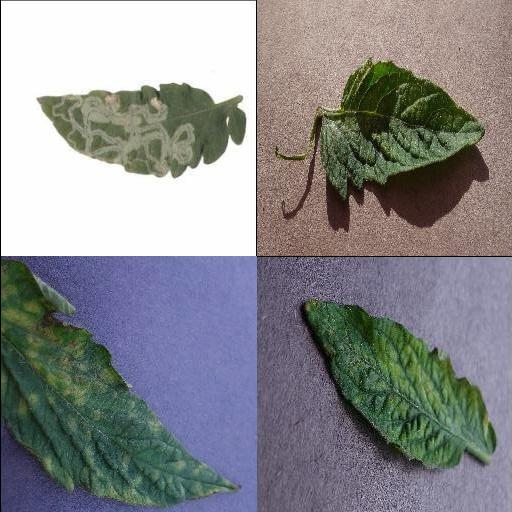Leaf Miner: (37, 82, 246, 180)
Leaf Mold: (0, 258, 244, 506)
Mosaic Virus: (301, 299, 499, 469)
Spider Mites: (319, 61, 485, 197)
